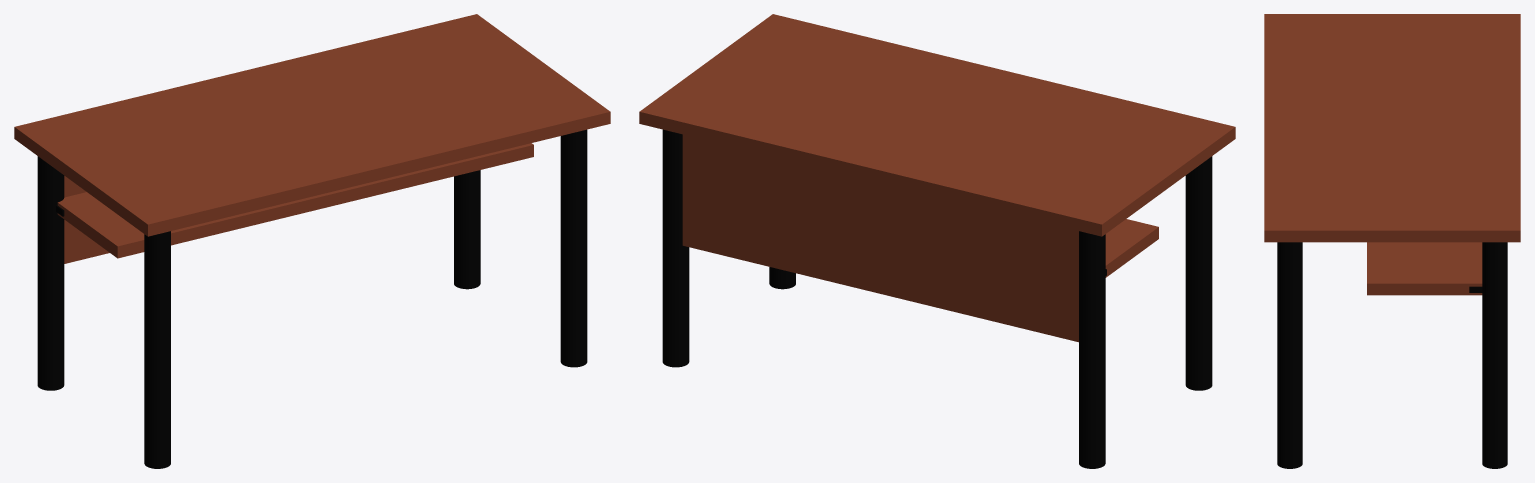
Rendered from Desk.fbx.
The picture shows the model from 3 angles, left to right: view 1: azimuth 30°, elevation 25°; view 2: azimuth 150°, elevation 25°; view 3: azimuth 270°, elevation 25°; orthographic projection. The views are drawn at different scales.
Visible parts, largest first — view 1: Desk, Legs, Shelf, PartOfDesk; view 2: Desk, PartOfDesk, Legs, Shelf; view 3: Desk, Legs, Shelf.
Boxes of the visible parts, x1,y1,x2,y2 form: Desk: [14, 14, 610, 236]; Legs: [37, 129, 587, 468]; Shelf: [56, 143, 533, 258]; PartOfDesk: [64, 176, 109, 263]; Desk: [639, 14, 1235, 236]; PartOfDesk: [682, 134, 1078, 342]; Legs: [662, 129, 1212, 468]; Shelf: [1105, 219, 1158, 277]; Desk: [1264, 14, 1520, 242]; Legs: [1277, 242, 1507, 468]; Shelf: [1367, 242, 1482, 295].
Bounding box in the file's own units: 400 × 210 × 200.
